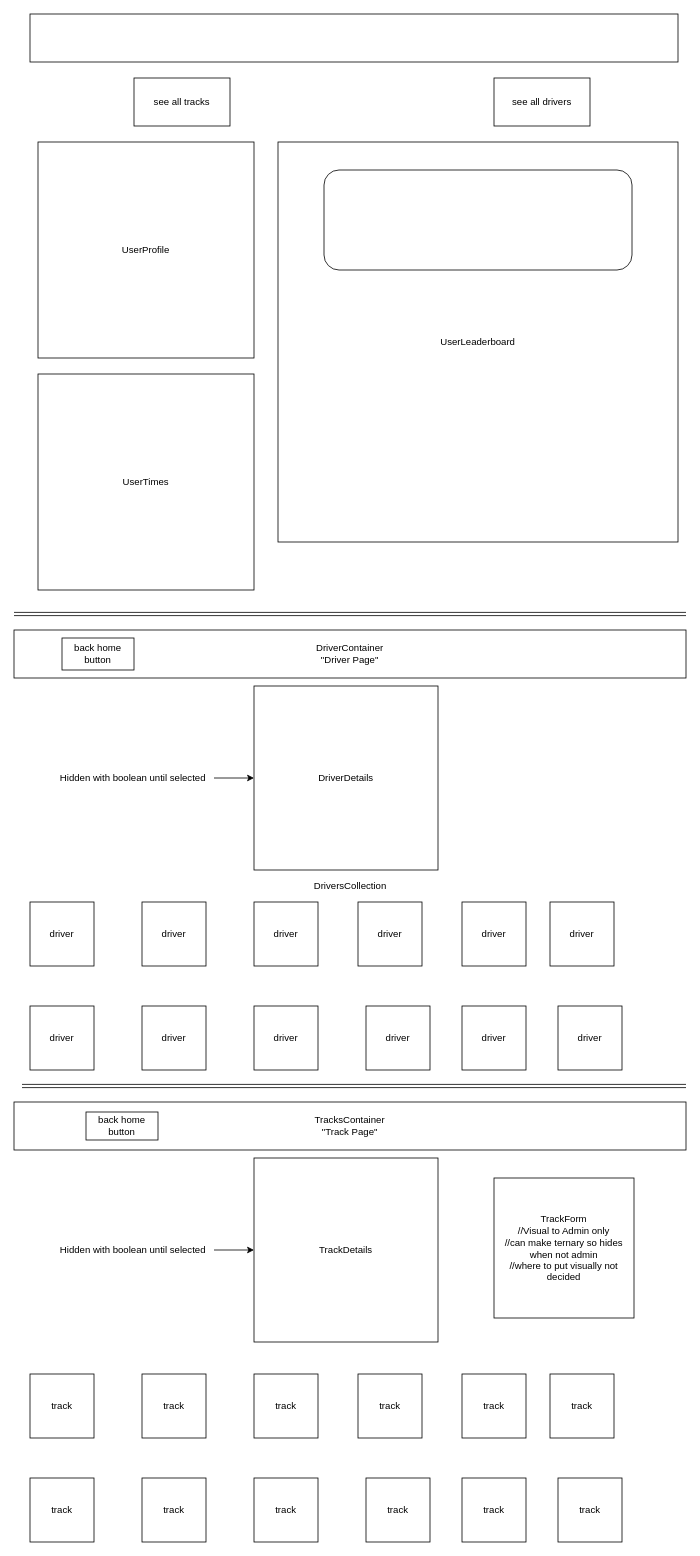
This 700x1556 diagram has some shape labels left out. Here are the shapes that lost their labels. From the top down, the centre of each, then its label:
[353,37]: UserContainer "Time trial app name"
[477,219]: recent times
